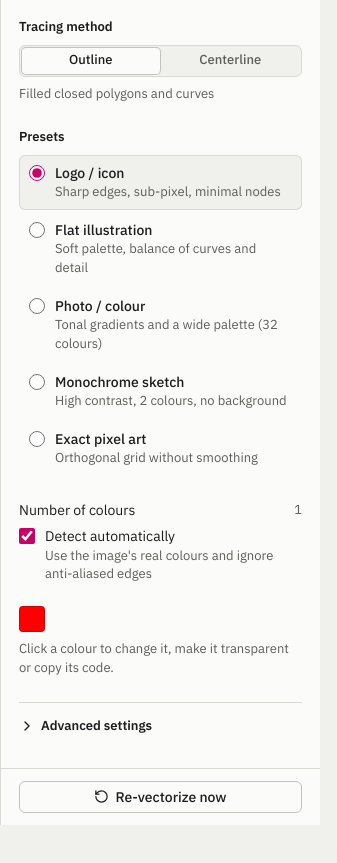
Test: Sidebar › shows the colour slider only when automatic detection is off
The image size is (337, 863).
Click the checkbox labelled "Detect automatically" at (27,536), box [19,528,35,544]
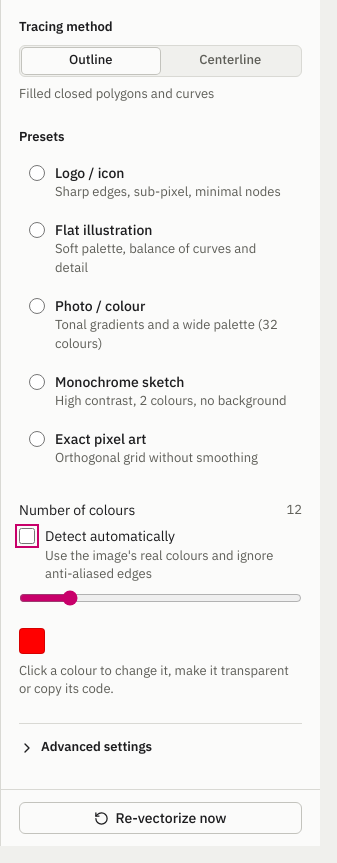
Check: the slider named "Number of colours" is shown, box [19,590,302,606]
